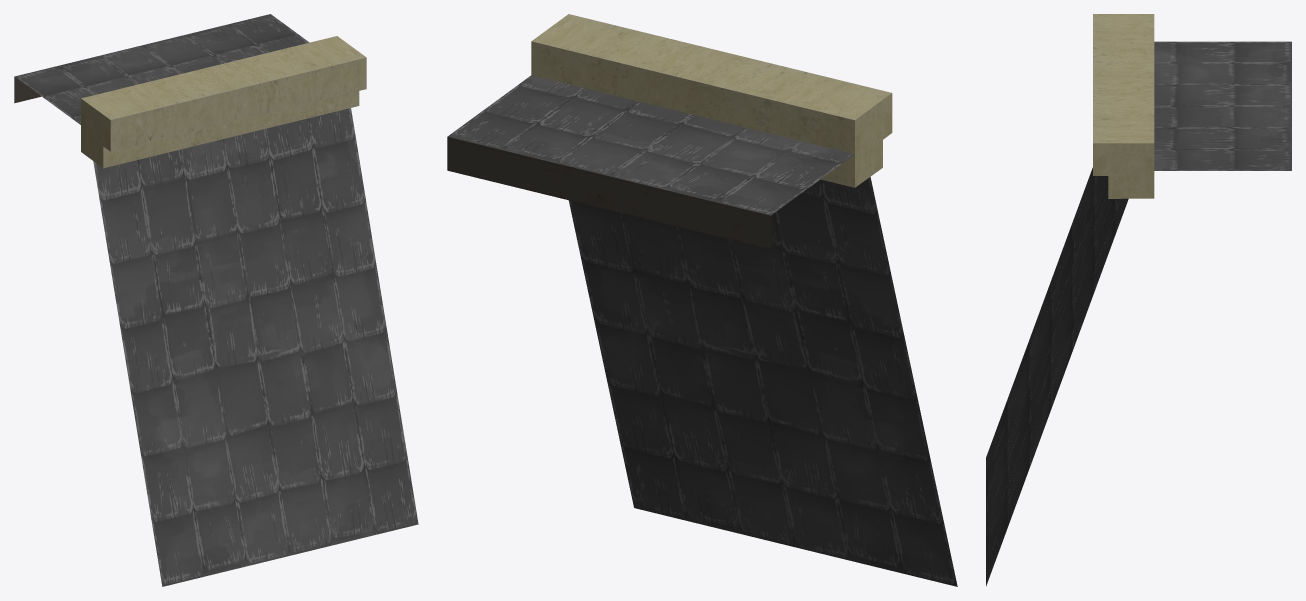
The model's file is Roof_SlateCornice_Center.gltf.
The picture shows the model from 3 angles, left to right: view 1: azimuth 30°, elevation 25°; view 2: azimuth 150°, elevation 25°; view 3: azimuth 270°, elevation 25°; orthographic projection. The views are drawn at different scales.
Visible parts, largest first — view 1: Roof_SlateCornice_Center; view 2: Roof_SlateCornice_Center; view 3: Roof_SlateCornice_Center.
Boxes of the visible parts, x1=… form: Roof_SlateCornice_Center: x1=14, y1=14, x2=418, y2=586; Roof_SlateCornice_Center: x1=447, y1=14, x2=957, y2=586; Roof_SlateCornice_Center: x1=986, y1=14, x2=1291, y2=586.
Size of the model in its own units: 2 by 3.2 by 2.
3 materials, 3 textured.
